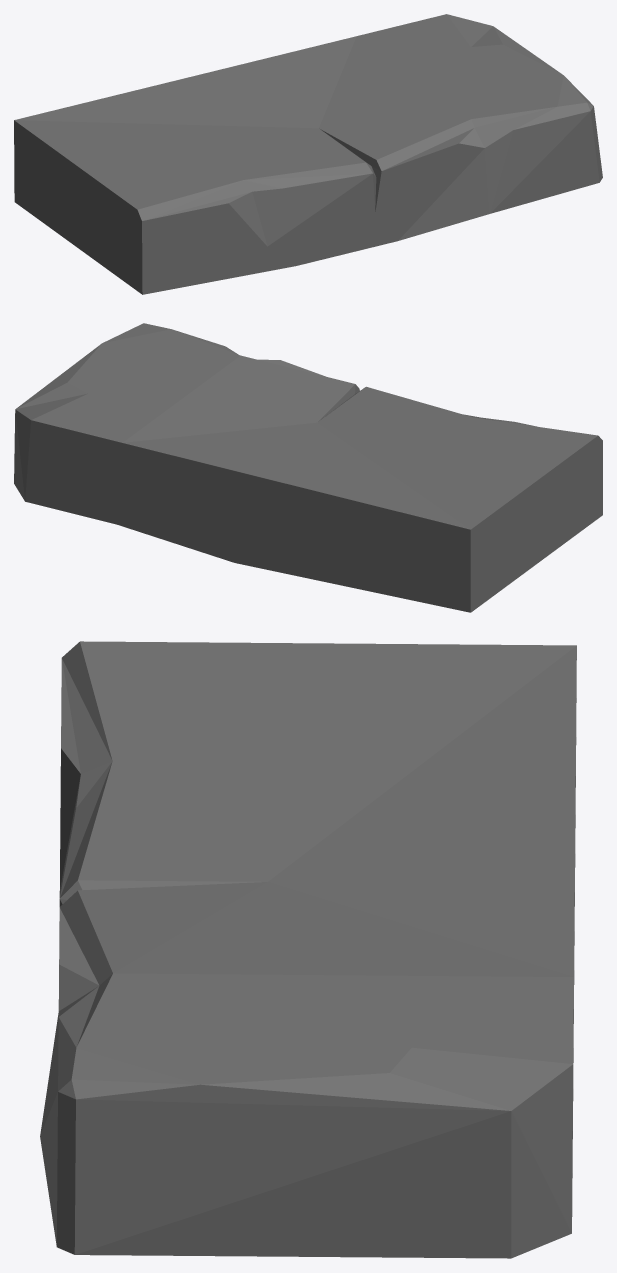
File: rock_012.glb
3 views of the same model, one above another, from view 1: azimuth 30°, elevation 25°; view 2: azimuth 150°, elevation 25°; view 3: azimuth 270°, elevation 25° (orthographic). The views are drawn at different scales.
Visible parts, largest first — view 1: rock_012; view 2: rock_012; view 3: rock_012.
Part boxes in pixels (left/top/right/bottom): rock_012: left=14, top=14, right=602, bottom=294; rock_012: left=14, top=323, right=602, bottom=612; rock_012: left=40, top=641, right=576, bottom=1258.
Size of the model in its own units: 42.75 by 8.16 by 21.38.
Materials: 1 (1 with a texture image).
